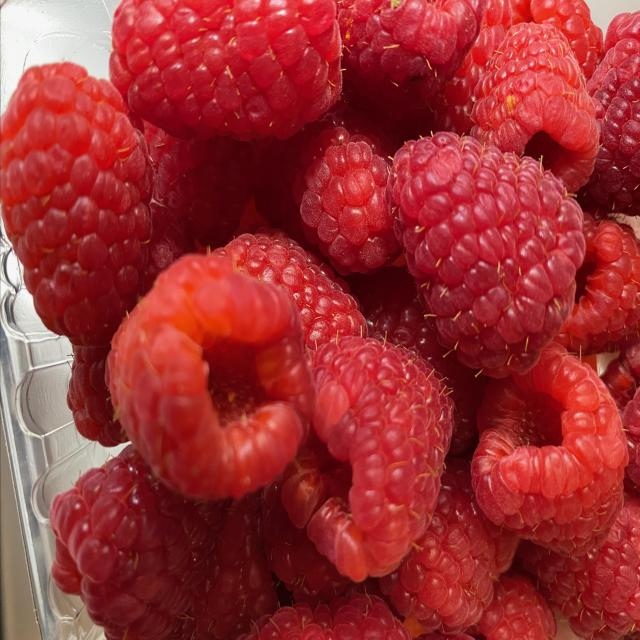raspberries: (18, 28, 628, 630)
